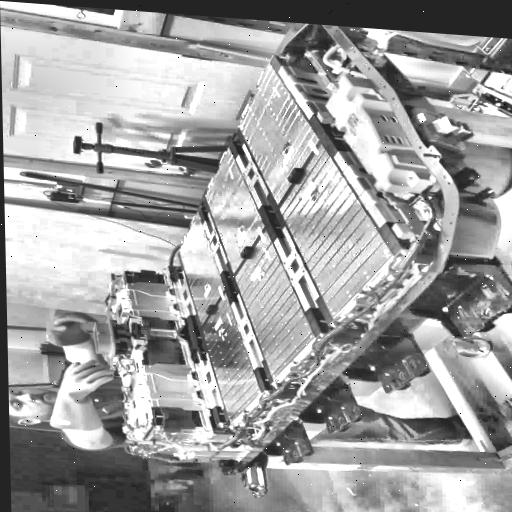battery_module: (278, 142, 393, 320), (235, 229, 317, 380), (236, 64, 320, 204), (203, 146, 265, 272), (202, 291, 261, 422), (178, 211, 225, 325)
connector: (87, 306, 158, 365)
high_volt_cable: (125, 265, 421, 454)
low_volt_cable: (123, 174, 439, 464)
